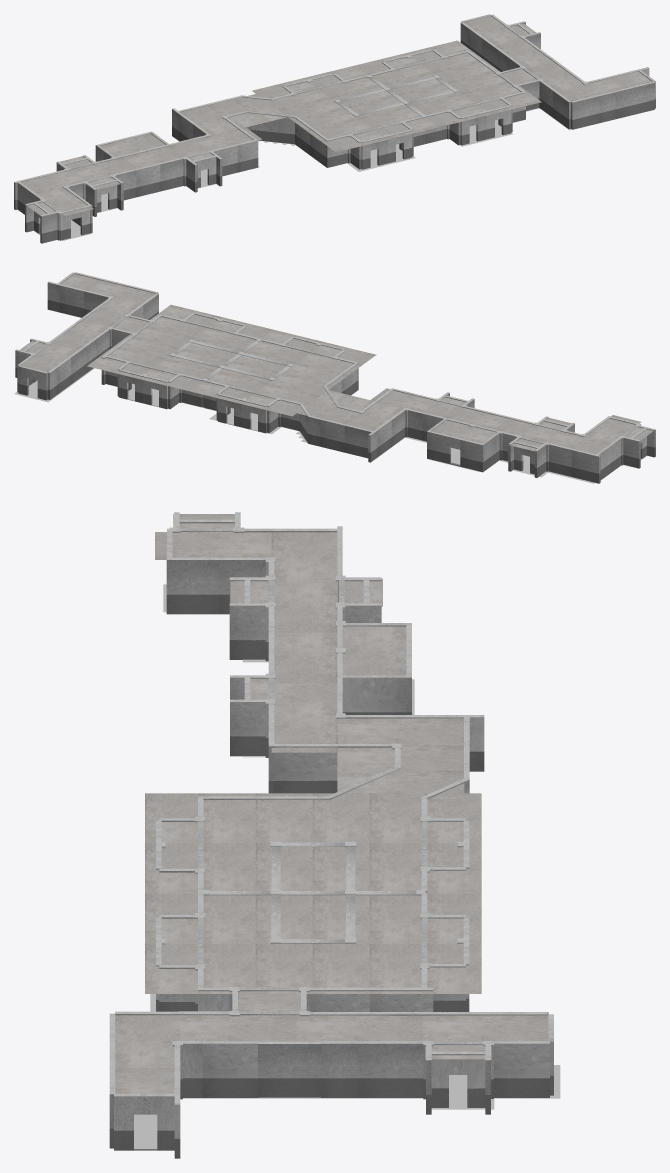
The model's file is TheResidentalBlock.fbx.
3 renders of one model, top to bottom at view 1: azimuth 30°, elevation 25°; view 2: azimuth 150°, elevation 25°; view 3: azimuth 270°, elevation 25°, orthographic. The views are drawn at different scales.
Visible parts, largest first — view 1: Plane.055, Plane.049, Plane.058, Plane.054, Plane.053, Plane.051, Plane.050, Plane.052, Plane.074, Plane.065, Plane.073, Plane.069 (+37 smaller); view 2: Plane.049, Plane.058, Plane.054, Plane.055, Plane.050, Plane.052, Plane.051, Plane.053, Plane.074, Plane.073, Plane.065, Plane.069 (+36 smaller); view 3: Plane.049, Plane.058, Plane.055, Plane.054, Plane.052, Plane.053, Plane.050, Plane.051, Plane.073, Plane.065, Plane.069, Plane.077 (+41 smaller).
Boxes of the visible parts, left/top/right/bottom form: Plane.055: left=421, top=51, right=499, bottom=83; Plane.049: left=273, top=89, right=344, bottom=121; Plane.058: left=294, top=109, right=371, bottom=142; Plane.054: left=449, top=71, right=527, bottom=103; Plane.053: left=373, top=64, right=443, bottom=95; Plane.051: left=318, top=77, right=394, bottom=107; Plane.050: left=350, top=97, right=420, bottom=128; Plane.052: left=399, top=85, right=474, bottom=115; Plane.074: left=527, top=62, right=585, bottom=91; Plane.065: left=180, top=106, right=238, bottom=135; Plane.073: left=496, top=39, right=553, bottom=68; Plane.069: left=464, top=16, right=521, bottom=45; Plane.049: left=257, top=373, right=334, bottom=406; Plane.058: left=284, top=353, right=362, bottom=385; Plane.054: left=129, top=314, right=206, bottom=347; Plane.055: left=100, top=335, right=179, bottom=367; Plane.050: left=234, top=341, right=309, bottom=371; Plane.052: left=185, top=328, right=255, bottom=359; Plane.051: left=204, top=361, right=278, bottom=392; Plane.053: left=154, top=349, right=228, bottom=378; Plane.074: left=83, top=297, right=141, bottom=326; Plane.073: left=52, top=320, right=110, bottom=349; Plane.065: left=346, top=402, right=403, bottom=430; Plane.069: left=21, top=343, right=77, bottom=372; Plane.049: left=312, top=793, right=421, bottom=843; Plane.058: left=198, top=793, right=312, bottom=843; Plane.055: left=312, top=943, right=426, bottom=993; Plane.054: left=198, top=943, right=312, bottom=993; Plane.052: left=203, top=895, right=312, bottom=943; Plane.053: left=312, top=895, right=421, bottom=943; Plane.050: left=203, top=843, right=312, bottom=890; Plane.051: left=312, top=843, right=426, bottom=893; Plane.073: left=296, top=1015, right=423, bottom=1041; Plane.065: left=337, top=718, right=463, bottom=745; Plane.069: left=422, top=1015, right=548, bottom=1041; Plane.077: left=271, top=532, right=337, bottom=582.
Size of the model in its own units: 21143 by 956 by 6797.
